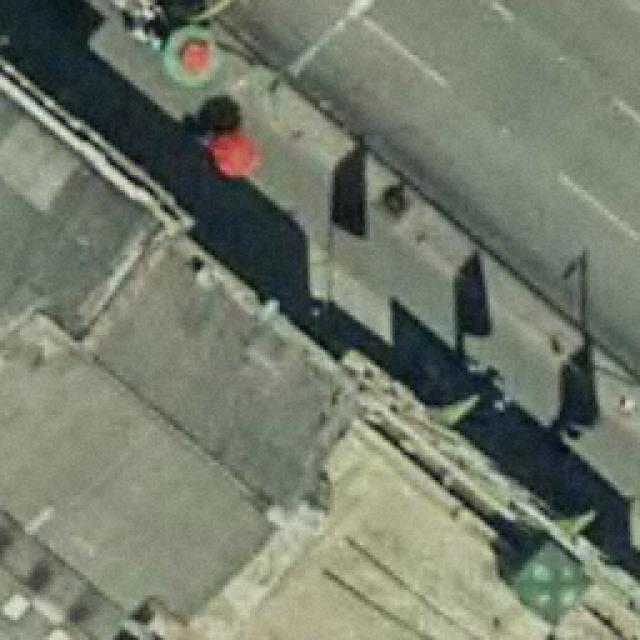vendedor_ambulante: (160, 18, 227, 90), (203, 122, 266, 186)
